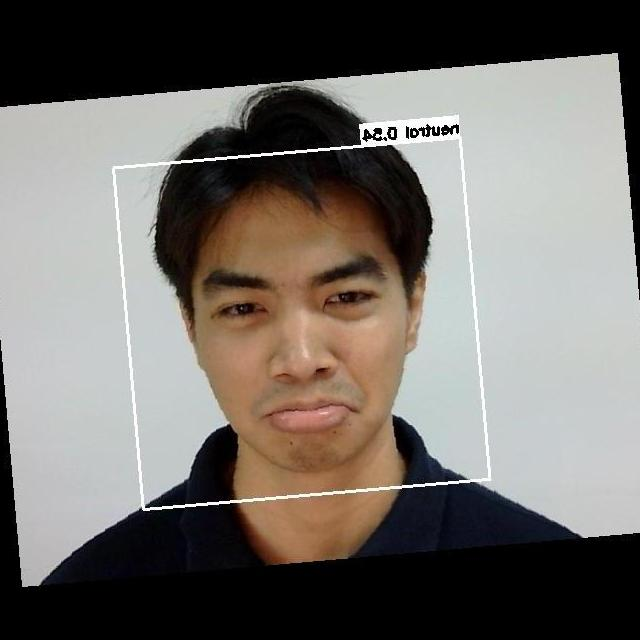Sad: (182, 238, 430, 453)
